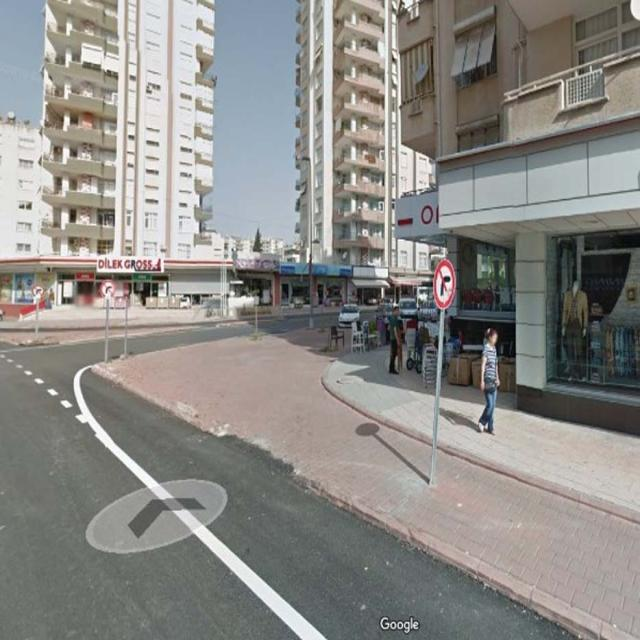sagadonulmez: (432, 260, 456, 308), (100, 280, 115, 299), (31, 285, 44, 299)
